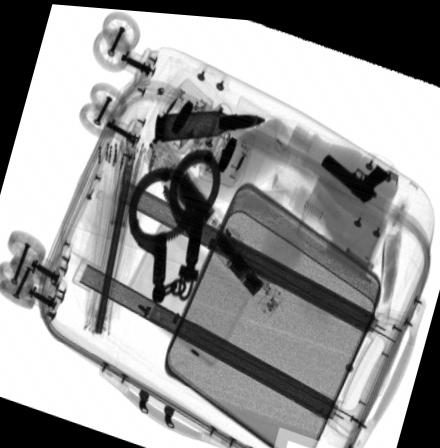Baton: (141, 129, 286, 314)
Bullet: (152, 107, 266, 140)
Gun: (320, 148, 391, 197)
HandCuffs: (127, 148, 223, 301)
